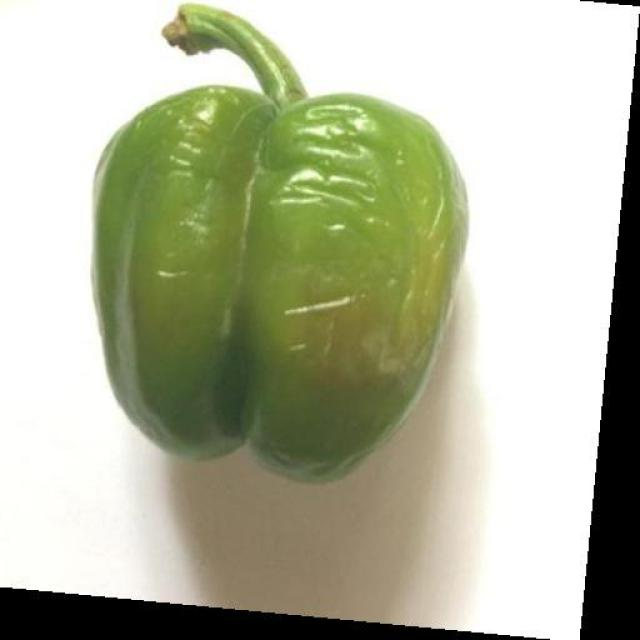Stale_Capsicum: (252, 147, 434, 430)
